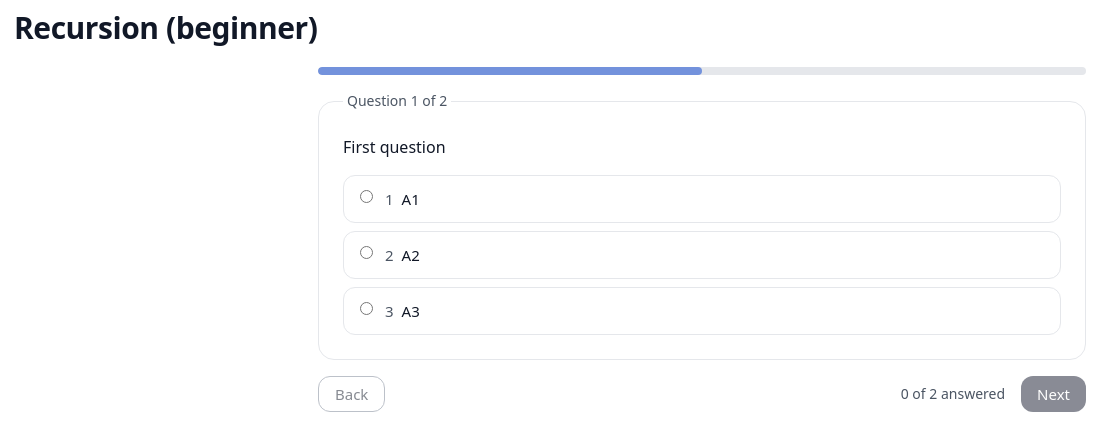
it: QuizRunner › keeps earlier answers when going back
Click the radio button labelled "A3" at (366, 308), box [360, 302, 373, 315]
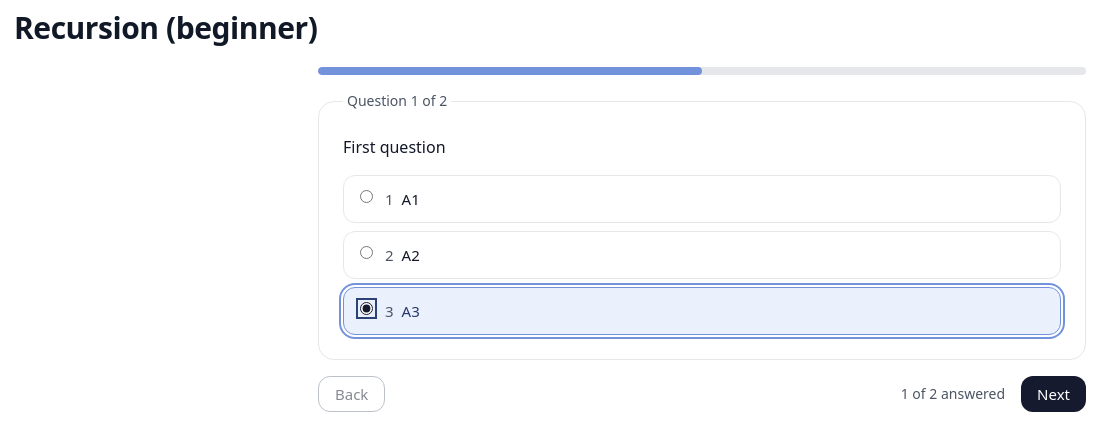
Click the button "Next" at (1054, 394), box [1021, 376, 1086, 412]
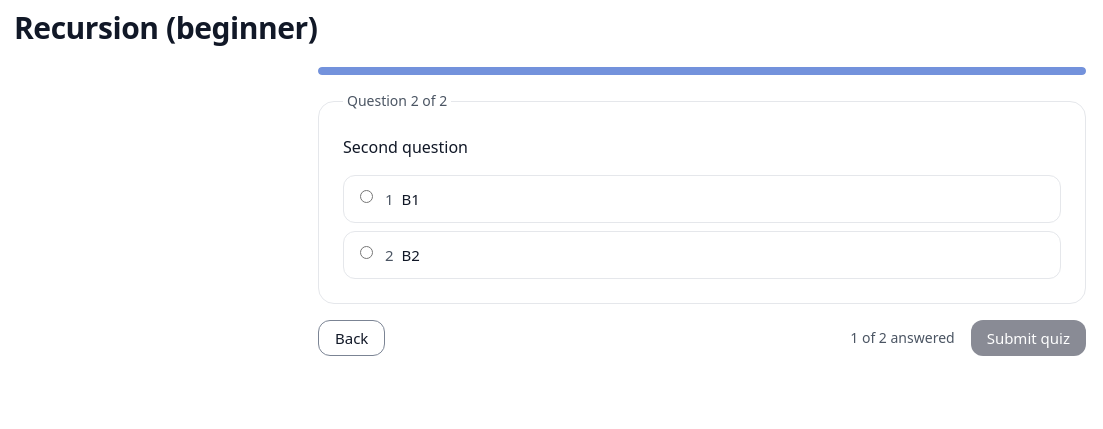
Click the radio button labelled "B2" at (366, 252), box [360, 246, 373, 259]
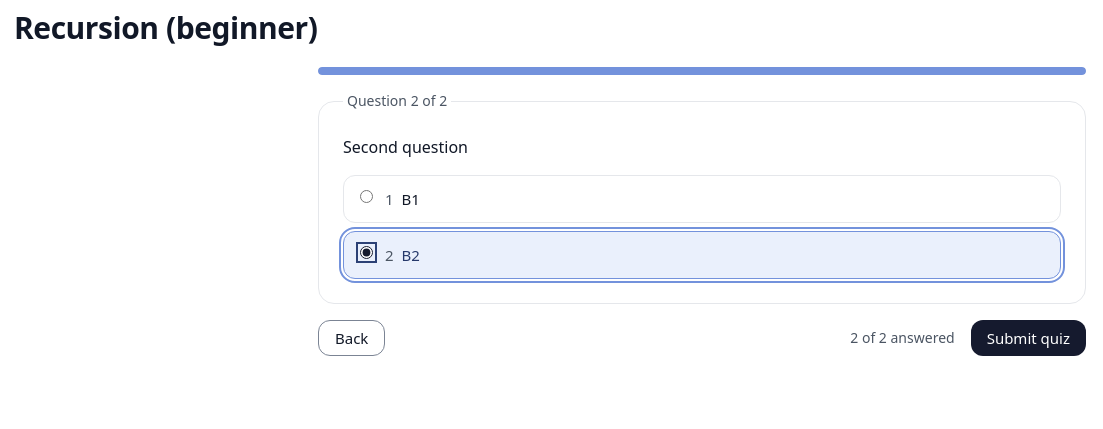
Click the button "Back" at (352, 338), box [318, 320, 385, 356]
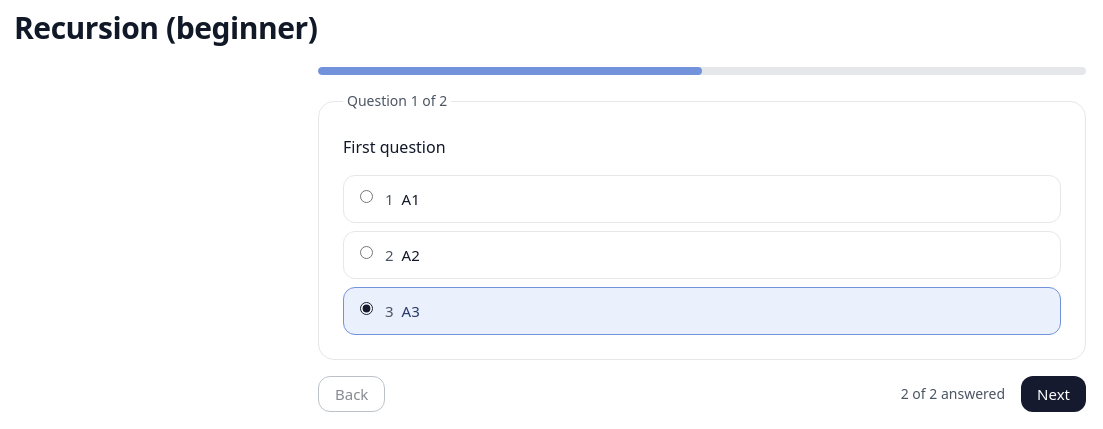
Expected: the radio button labelled "A3" is checked, [360, 302, 373, 315]
